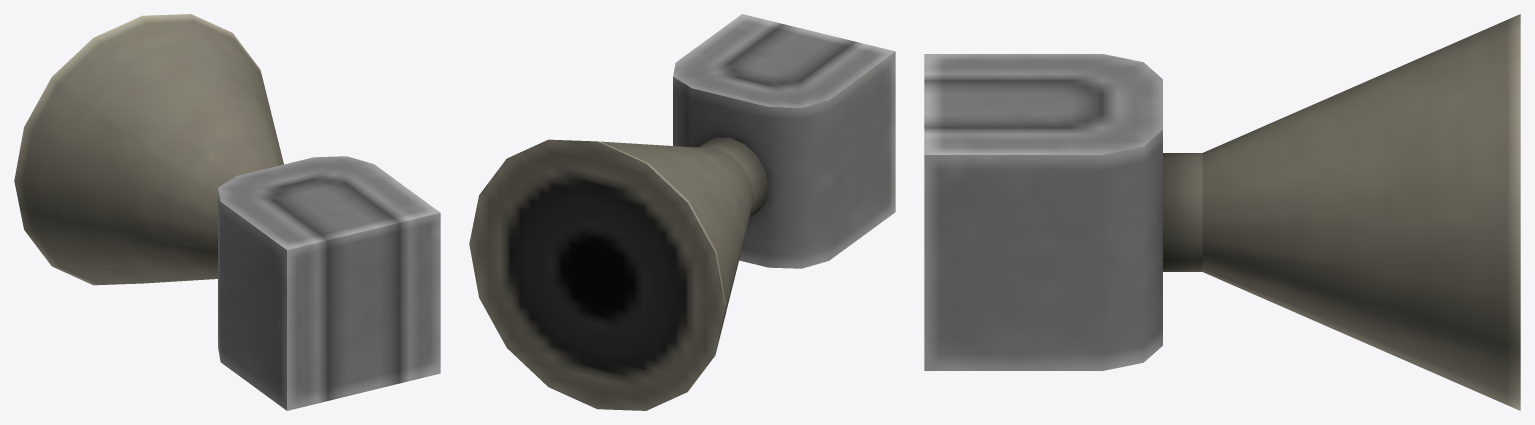
The model's file is sp_star_tracker_srf_2.obj.
3 views of the same model, side by side, from view 1: azimuth 30°, elevation 25°; view 2: azimuth 150°, elevation 25°; view 3: azimuth 270°, elevation 25° (orthographic). The views are drawn at different scales.
Visible parts, largest first — view 1: mesh1; view 2: mesh1; view 3: mesh1.
Boxes of the visible parts, x1,y1,x2,y2 form: mesh1: (14, 14, 440, 410); mesh1: (469, 14, 895, 410); mesh1: (924, 14, 1520, 410).
Size of the model in its own units: 0.125 by 0.125 by 0.1875.
1 material, 1 textured.
